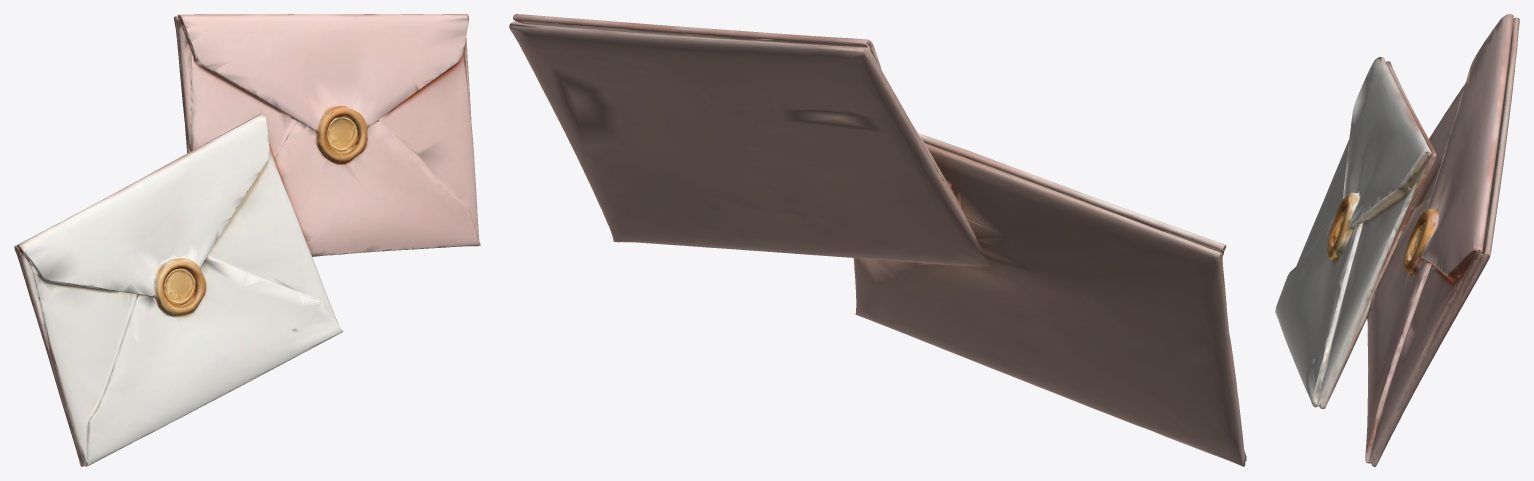
File: envelope.glb
3 views of the same model, side by side, from view 1: azimuth 30°, elevation 25°; view 2: azimuth 150°, elevation 25°; view 3: azimuth 270°, elevation 25° (orthographic). The views are drawn at different scales.
Parts seen in each view (by area): view 1: node_0; view 2: node_0; view 3: node_0.
Boxes of the visible parts, x1,y1,x2,y2 form: node_0: [14, 14, 480, 466]; node_0: [509, 14, 1246, 466]; node_0: [1275, 14, 1519, 466].
Size of the model in its own units: 1.03 by 0.6814 by 0.3631.
1 material, 1 textured.
